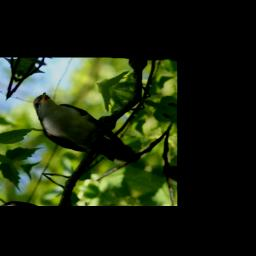Cuckoo: (18, 90, 152, 173)
